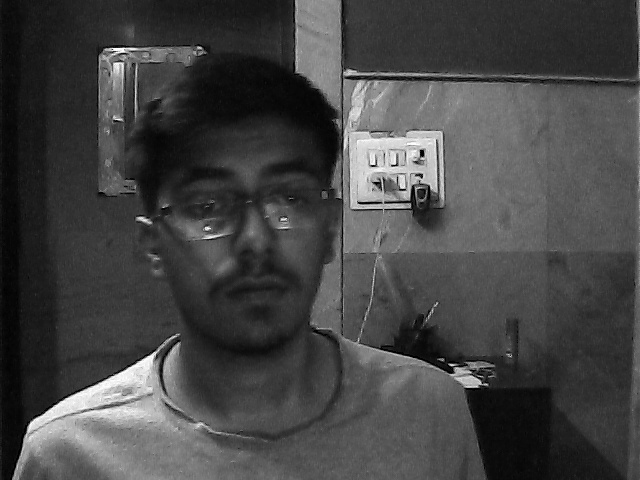nomask: (151, 117, 339, 351)
